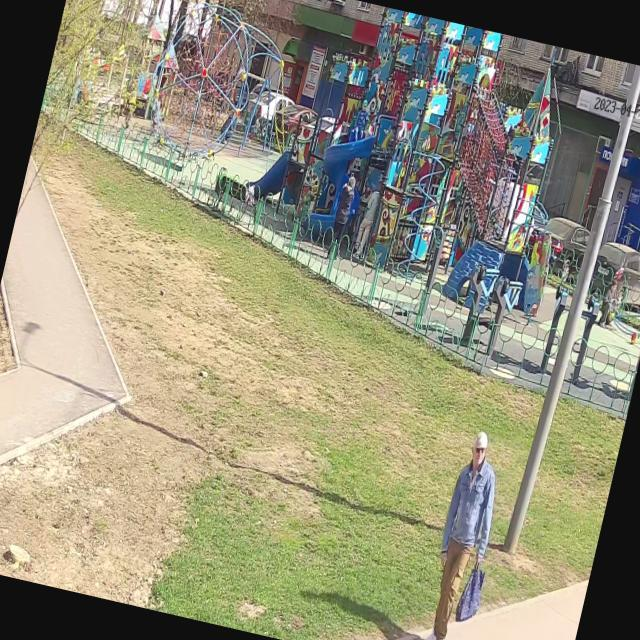person: (412, 427, 511, 640)
